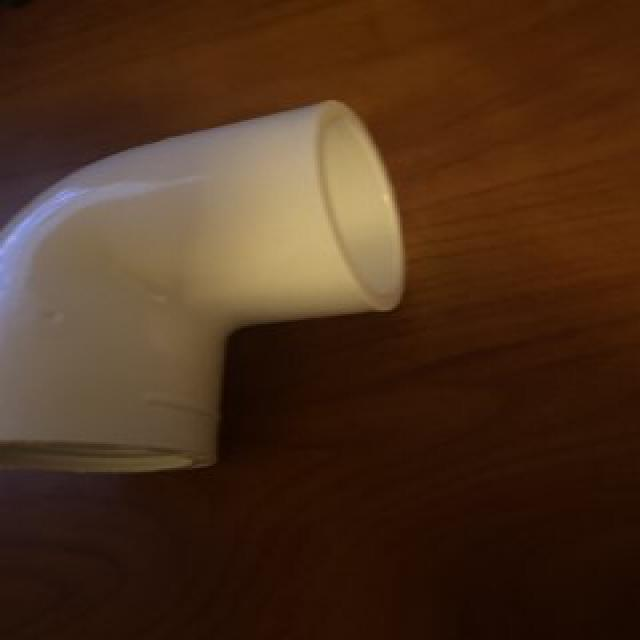L Joint: (0, 100, 407, 476)
